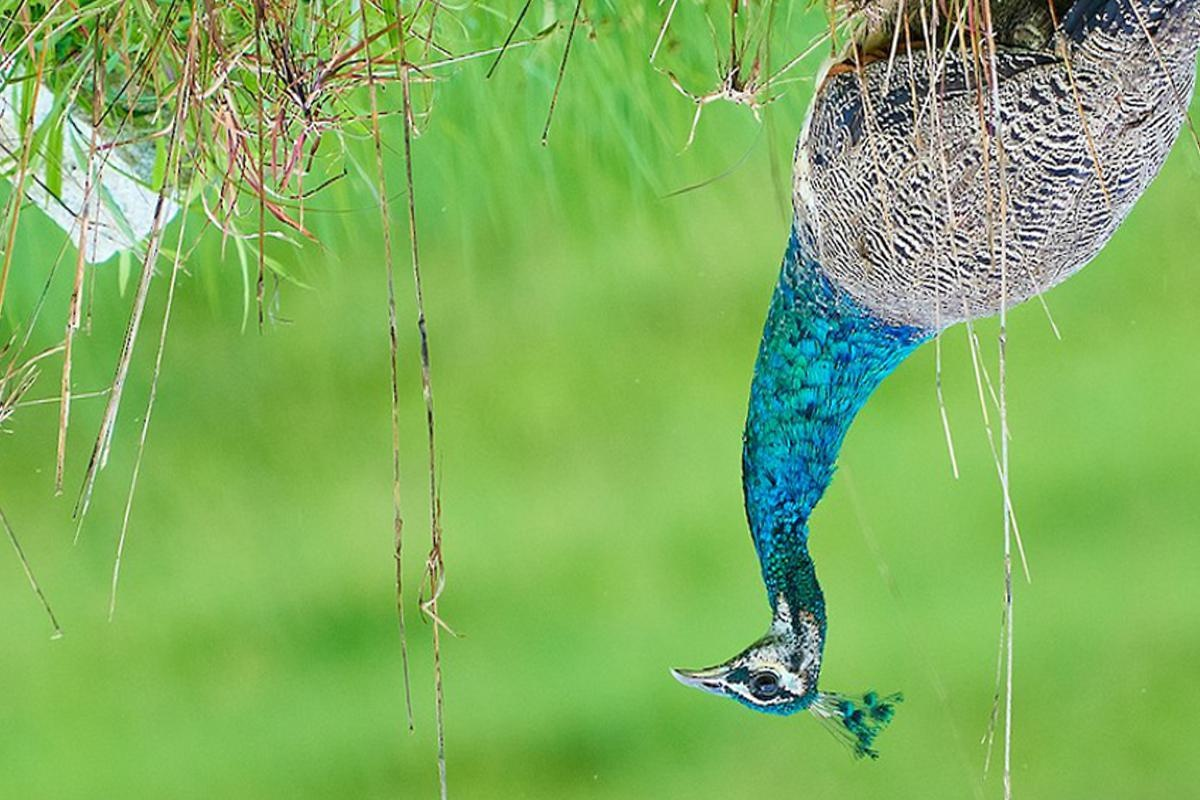peacock: (674, 82, 1174, 718)
